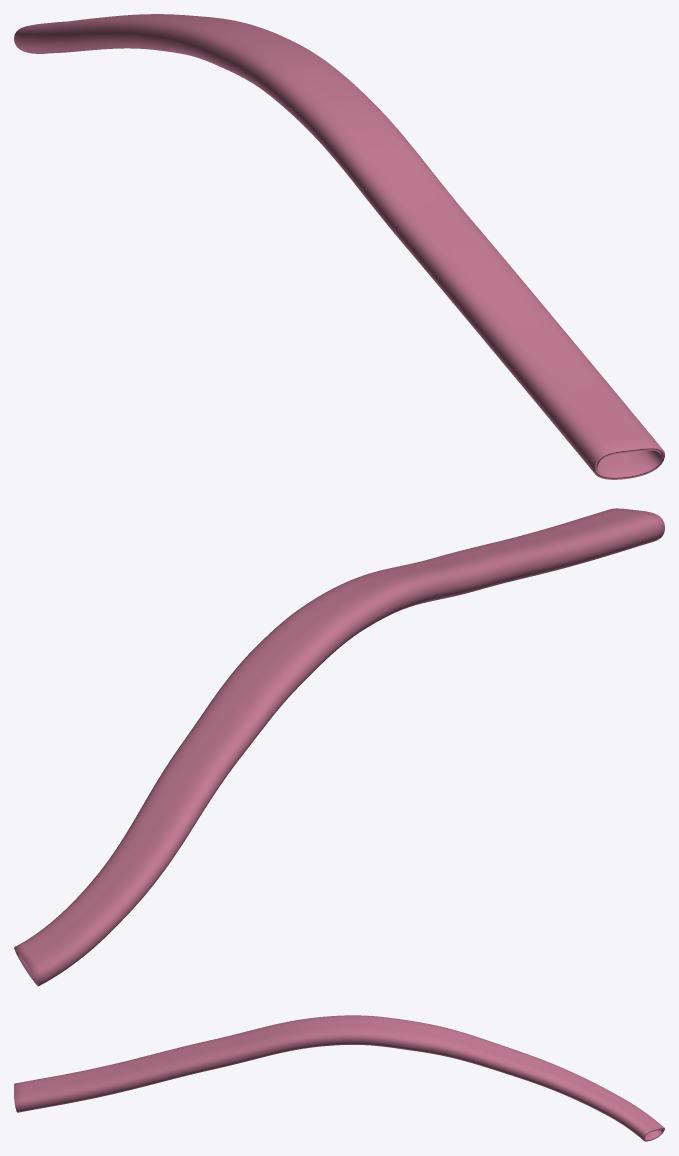
The picture shows the model from 3 angles, top to bottom: view 1: azimuth 30°, elevation 25°; view 2: azimuth 150°, elevation 25°; view 3: azimuth 270°, elevation 25°; orthographic projection. The views are drawn at different scales.
Visible parts, largest first — view 1: 食管; view 2: 食管; view 3: 食管.
Boxes of the visible parts, x1=… form: 食管: x1=14, y1=14, x2=664, y2=479; 食管: x1=14, y1=508, x2=664, y2=986; 食管: x1=14, y1=1015, x2=664, y2=1141.
Bounding box in the file's own units: 0.0402 × 0.0767 × 0.4147.
